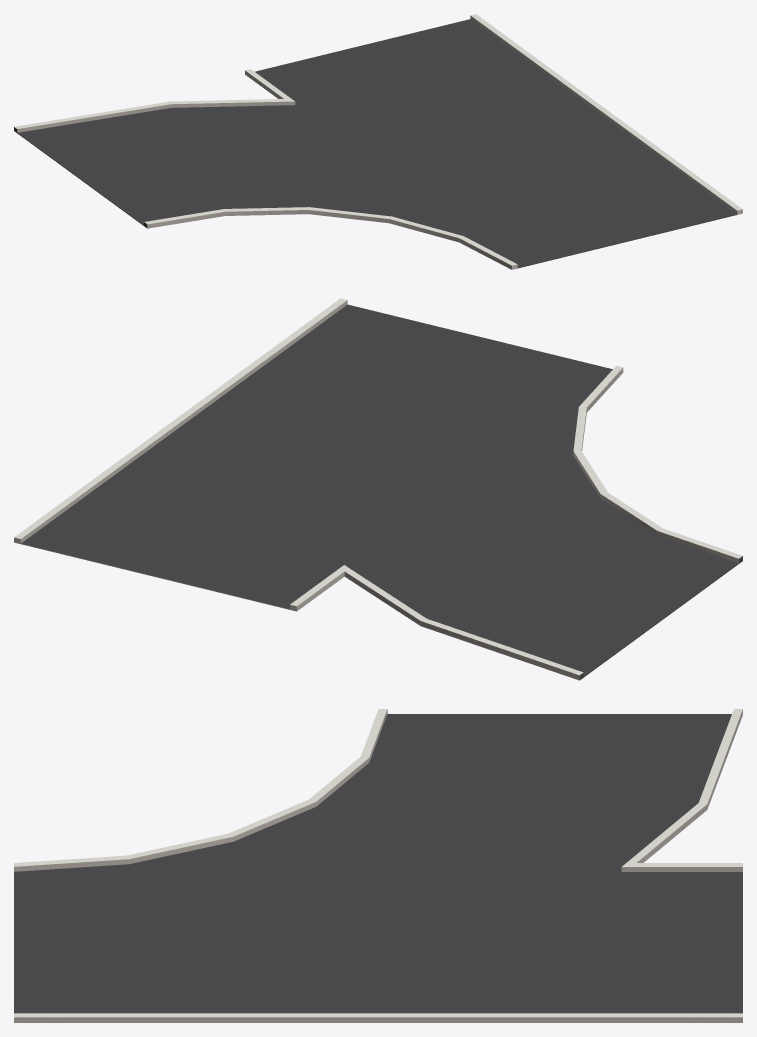
Rendered from road06.FBX.
The picture shows the model from 3 angles, top to bottom: view 1: azimuth 30°, elevation 25°; view 2: azimuth 150°, elevation 25°; view 3: azimuth 270°, elevation 25°; orthographic projection. The views are drawn at different scales.
Visible parts, largest first — view 1: 001; view 2: 001; view 3: 001.
Boxes of the visible parts, x1,y1,x2,y2 form: 001: (14,14,742,269); 001: (14,298,742,680); 001: (14,709,742,1022).
Bounding box in the file's own units: 157 × 1.39 × 157.
2 materials, 2 textured.
